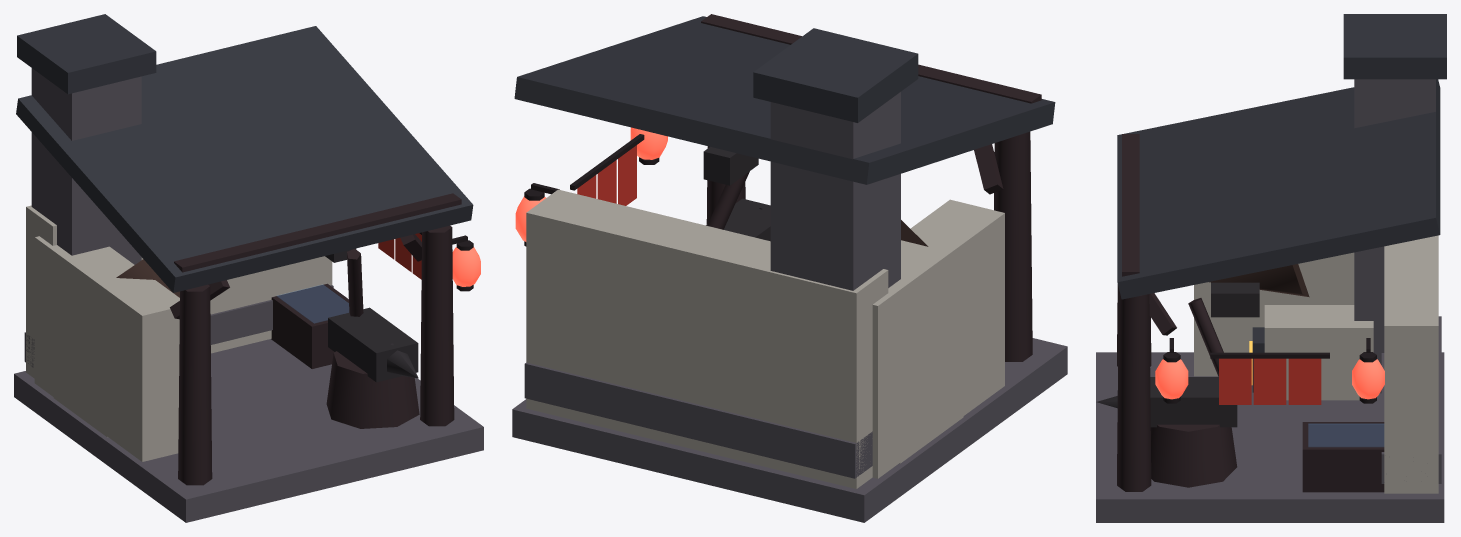
File: building_forge.glb
The picture shows the model from 3 angles, left to right: view 1: azimuth 30°, elevation 25°; view 2: azimuth 150°, elevation 25°; view 3: azimuth 270°, elevation 25°; orthographic projection. The views are drawn at different scales.
Visible parts, largest first — view 1: roof, floor, wall_side, chimney, chimney_cap, post_e, post_w, wall_back, anvil_block, water_trough, anvil_body, roof_beam (+8 smaller); view 2: wall_back, roof, wall_side, floor, chimney, wall_stones, chimney_cap, post_w, roof_beam, deco_noren, hammer_head, anvil_body (+4 smaller); view 3: roof, floor, wall_back, chimney_cap, hearth, post_e, chimney, water_trough, wall_side, anvil_block, deco_noren, anvil_body (+10 smaller).
Boxes of the visible parts, x1=… form: roof: x1=16, y1=26, x2=473, y2=292; floor: x1=14, y1=339, x2=483, y2=522; wall_side: x1=34, y1=236, x2=179, y2=461; chimney: x1=31, y1=68, x2=141, y2=264; chimney_cap: x1=17, y1=14, x2=156, y2=94; post_e: x1=420, y1=225, x2=454, y2=426; post_w: x1=178, y1=284, x2=212, y2=485; wall_back: x1=26, y1=205, x2=332, y2=378; anvil_block: x1=326, y1=351, x2=419, y2=428; water_trough: x1=271, y1=283, x2=349, y2=368; anvil_body: x1=328, y1=307, x2=418, y2=382; roof_beam: x1=174, y1=193, x2=461, y2=272; wall_back: x1=526, y1=189, x2=888, y2=488; roof: x1=514, y1=16, x2=1055, y2=184; wall_side: x1=872, y1=199, x2=1004, y2=478; floor: x1=512, y1=338, x2=1067, y2=522; chimney: x1=770, y1=92, x2=900, y2=290; wall_stones: x1=524, y1=362, x2=872, y2=478; chimney_cap: x1=753, y1=28, x2=918, y2=122; post_w: x1=994, y1=131, x2=1032, y2=361; roof_beam: x1=701, y1=14, x2=1041, y2=103; deco_noren: x1=577, y1=145, x2=636, y2=205; hammer_head: x1=703, y1=146, x2=758, y2=185; anvil_body: x1=706, y1=198, x2=770, y2=241; roof: x1=1117, y1=79, x2=1440, y2=299; floor: x1=1096, y1=352, x2=1444, y2=522; wall_back: x1=1384, y1=235, x2=1438, y2=493; chimney_cap: x1=1343, y1=14, x2=1446, y2=79; hearth: x1=1264, y1=305, x2=1373, y2=400; post_e: x1=1117, y1=290, x2=1151, y2=491; chimney: x1=1354, y1=79, x2=1435, y2=393; water_trough: x1=1302, y1=422, x2=1384, y2=492; wall_side: x1=1194, y1=252, x2=1354, y2=376; anvil_block: x1=1150, y1=424, x2=1237, y2=487; deco_noren: x1=1219, y1=358, x2=1321, y2=404; anvil_body: x1=1150, y1=377, x2=1237, y2=427.
Size of the model in its own units: 0.3552 by 0.369 by 0.3225.
